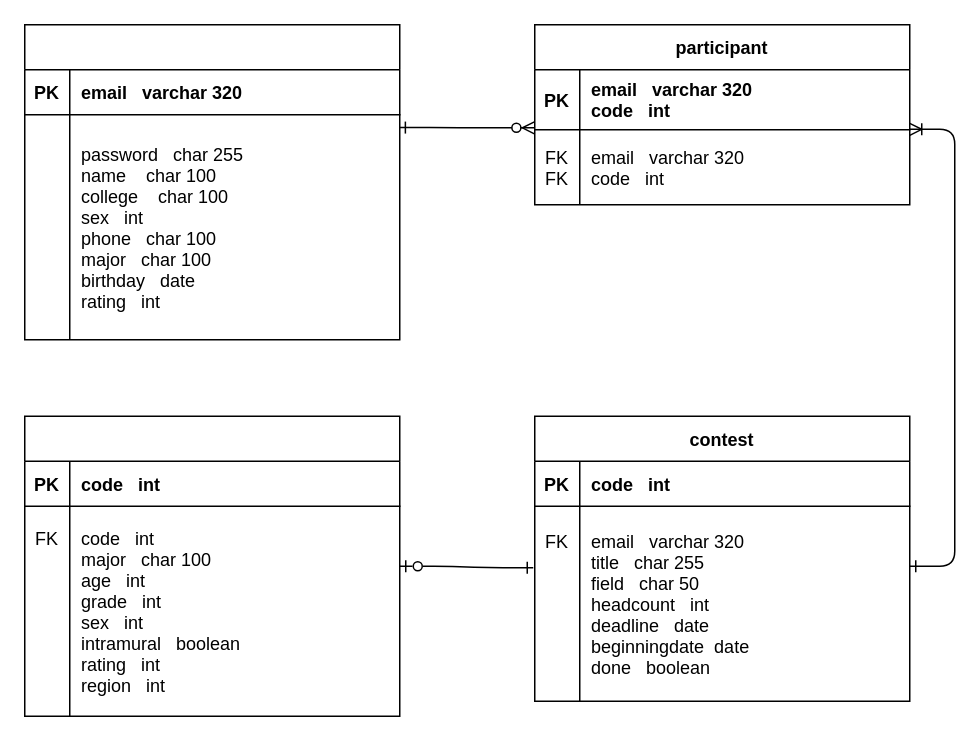
The diagram is 980 pixels wide and 741 high, and some of its shapes have lost their labels. Here are the shapes that lost their labels. From the top down, the box of each, then its label:
(23, 23, 400, 340): members
(23, 415, 400, 716): details
